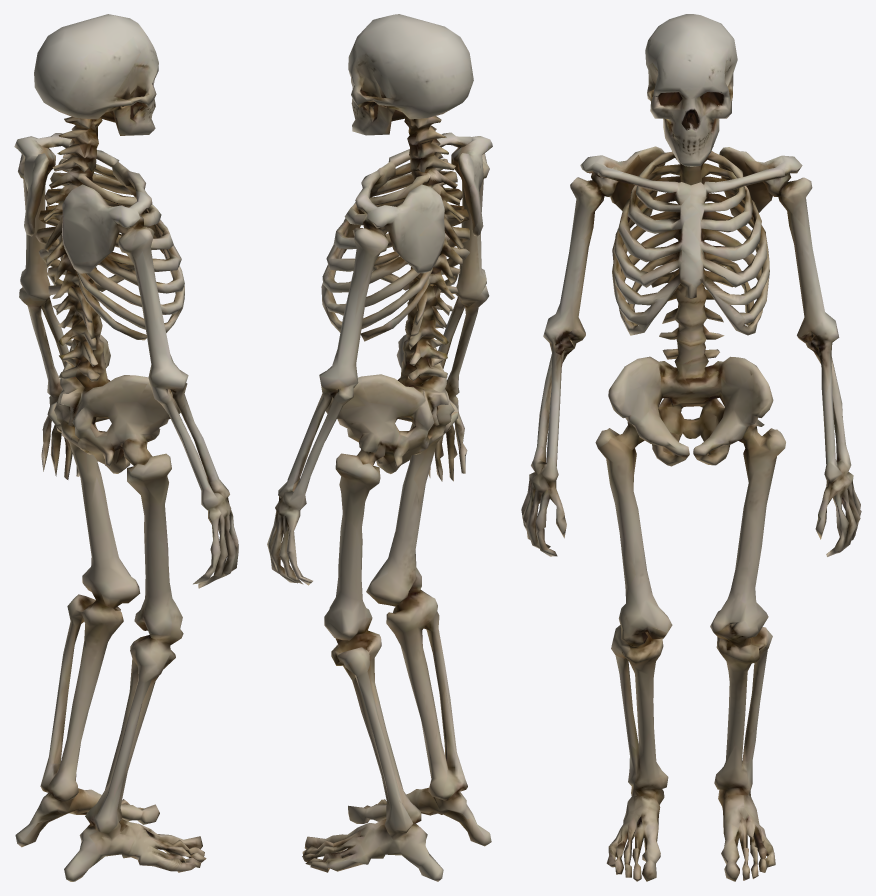
File: skeleton_worn_ready.glb
3 renders of one model, left to right at view 1: azimuth 30°, elevation 25°; view 2: azimuth 150°, elevation 25°; view 3: azimuth 270°, elevation 25°, orthographic.
Visible parts, largest first — view 1: Module; view 2: Module; view 3: Module.
Part boxes in pixels (<box>): Module: <box>14,14,238,881</box>; Module: <box>267,14,492,881</box>; Module: <box>521,14,861,881</box>.
Bounding box in the file's own units: 0.176 × 1 × 0.374.
1 material, 1 textured.
